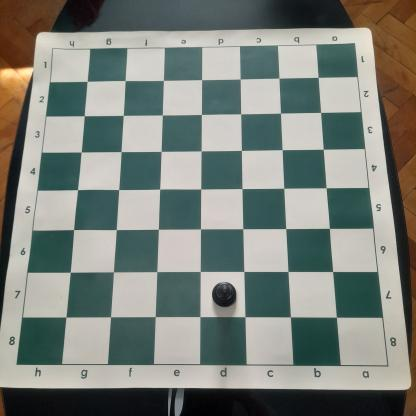black-bishop: (211, 280, 239, 308)
